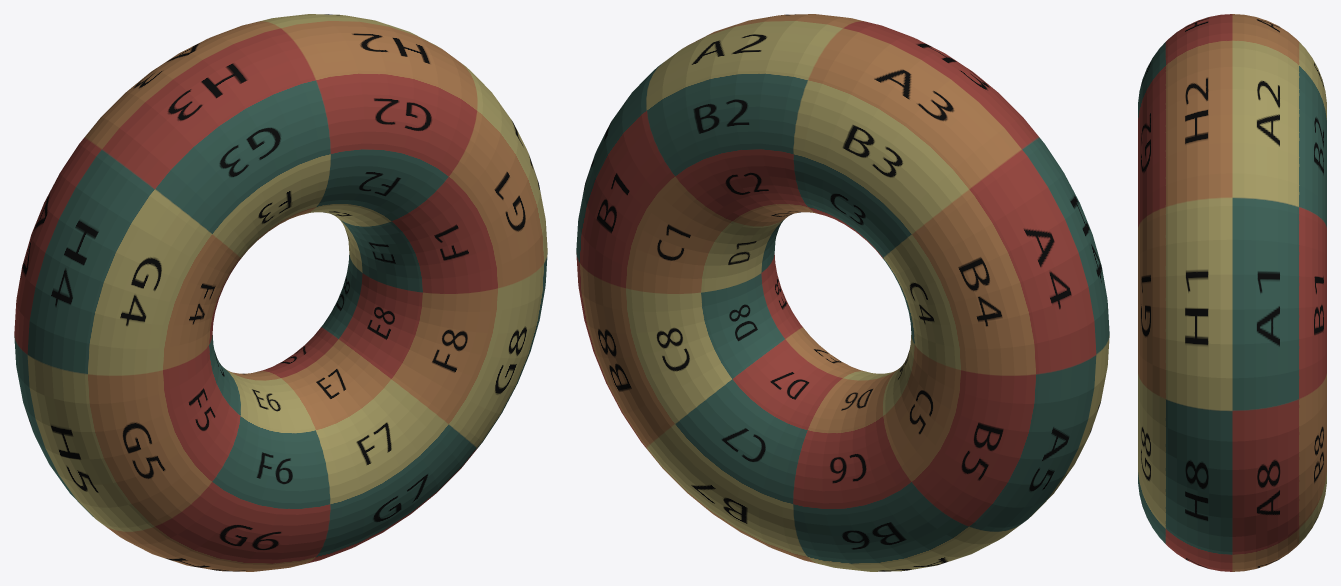
File: texture_torus_R8_r22.glb
The picture shows the model from 3 angles, left to right: view 1: azimuth 30°, elevation 25°; view 2: azimuth 150°, elevation 25°; view 3: azimuth 270°, elevation 25°; orthographic projection. The views are drawn at different scales.
Visible parts, largest first — view 1: world; view 2: world; view 3: world.
Boxes of the visible parts, left/top/right/bottom form: world: left=14, top=14, right=547, bottom=571; world: left=576, top=14, right=1109, bottom=571; world: left=1138, top=14, right=1326, bottom=571.
Bounding box in the file's own units: 23.2 × 23.15 × 7.85.
Materials: 1 (1 with a texture image).
